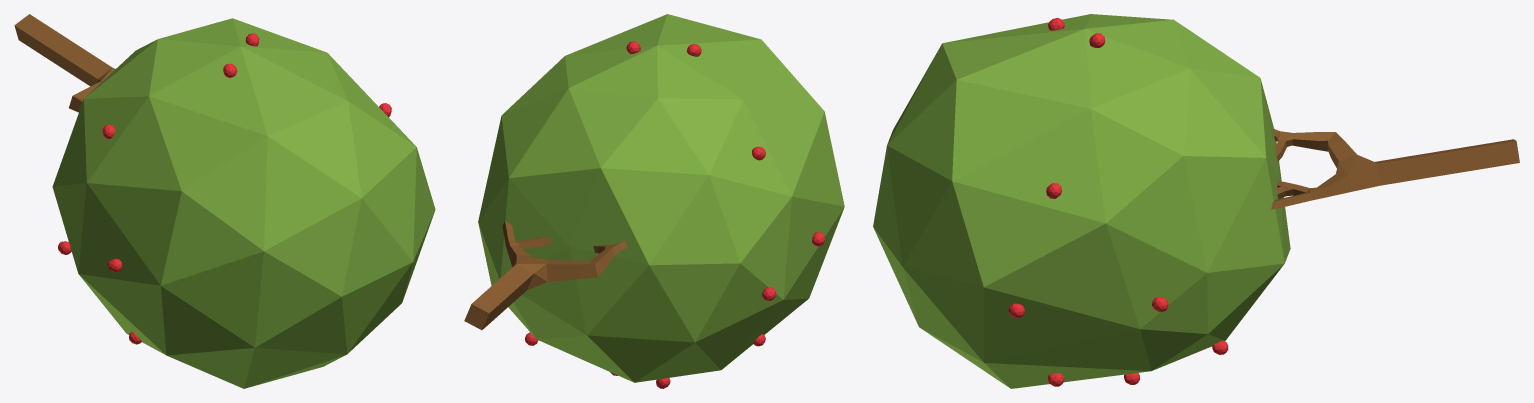
The model's file is apple tree.glb.
The picture shows the model from 3 angles, left to right: view 1: azimuth 30°, elevation 25°; view 2: azimuth 150°, elevation 25°; view 3: azimuth 270°, elevation 25°; orthographic projection. The views are drawn at different scales.
Parts seen in each view (by area): view 1: apple1; view 2: apple1; view 3: apple1.
Part boxes in pixels (x1=…): apple1: x1=14, y1=14, x2=435, y2=388; apple1: x1=464, y1=14, x2=844, y2=388; apple1: x1=873, y1=14, x2=1519, y2=388.
Size of the model in its own units: 0.5562 by 0.5728 by 0.9601.
